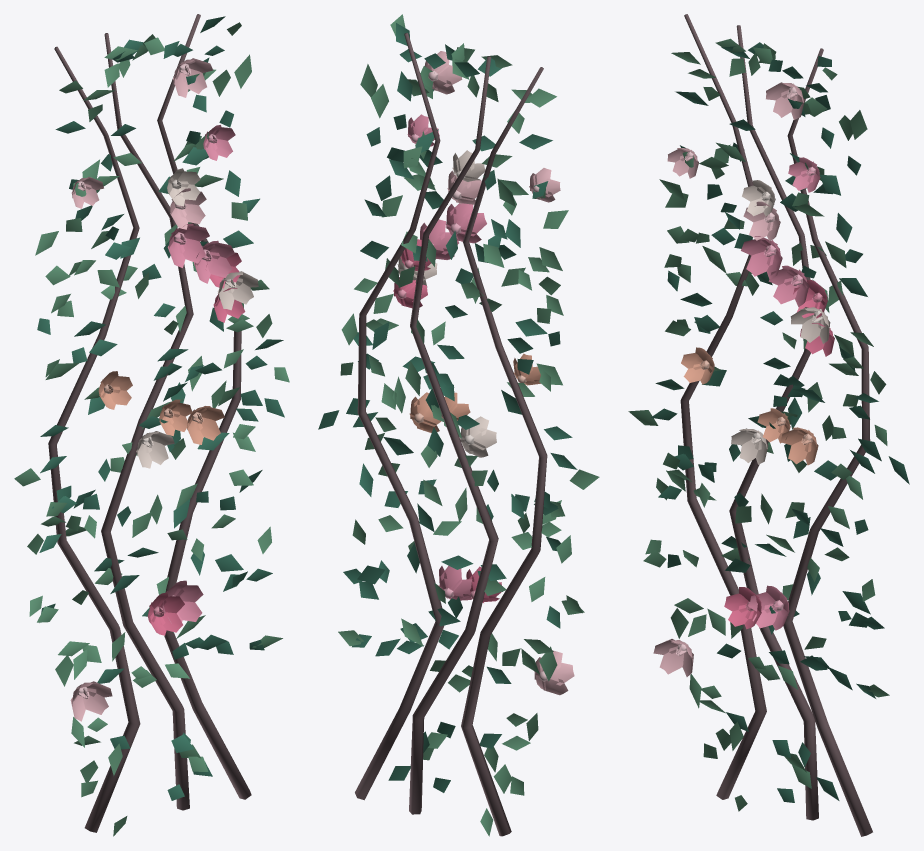
File: facade_climber_rose.glb
The picture shows the model from 3 angles, left to right: view 1: azimuth 30°, elevation 25°; view 2: azimuth 150°, elevation 25°; view 3: azimuth 330°, elevation 25°; orthographic projection. The views are drawn at different scales.
Visible parts, largest first — view 1: facade_climber_rose; view 2: facade_climber_rose; view 3: facade_climber_rose.
Boxes of the visible parts, x1,y1,x2,y2 form: facade_climber_rose: (14,14,289,836); facade_climber_rose: (318,14,599,836); facade_climber_rose: (628,14,909,836).
Size of what is drawn, in the model's own units: 1.63 by 4.46 by 0.3664.
